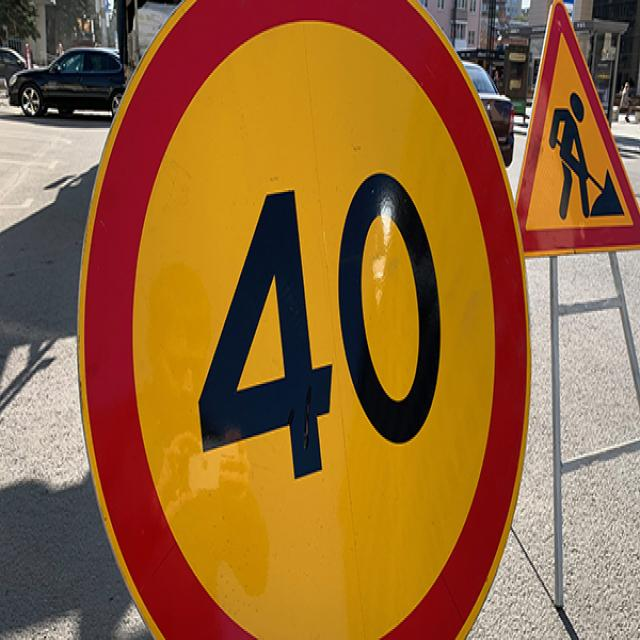roadwork: (536, 0, 631, 250)
speed limit 40: (78, 0, 536, 640)
